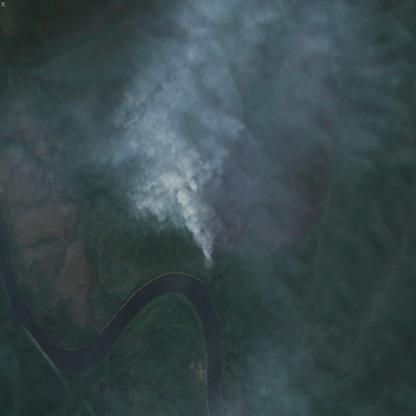fire: (184, 170, 217, 274), (233, 117, 250, 138)
